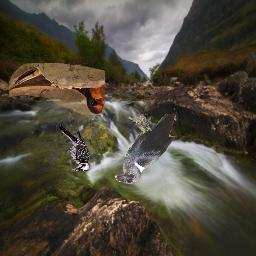Crow: (114, 114, 176, 184)
Swallow: (9, 63, 105, 115)
Woodpecker: (60, 125, 91, 172)
